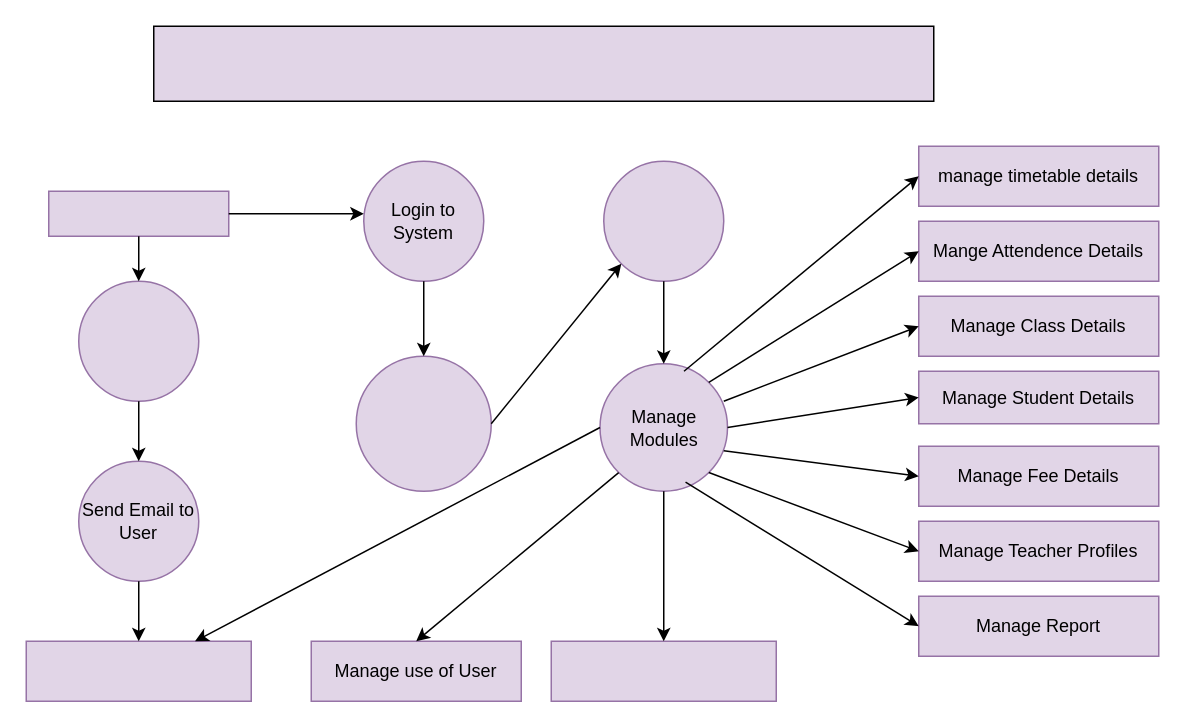
The diagram is 1185 pixels wide and 728 high, and some of its shapes have lost their labels. The shapes that lost their labels are listed below. From the top down, each one's centre as x and y in pixels, then its label:
At (x=543, y=63): "Student Information Syatem".
At (x=138, y=213): "Admin".
At (x=663, y=220): "Check Rules of Access".
At (x=138, y=340): "Forgot Password".
At (x=423, y=423): "Check Credentials".
At (x=138, y=670): "Manage System Admins".
